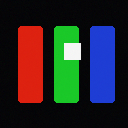1 square: (64, 43, 80, 59)
